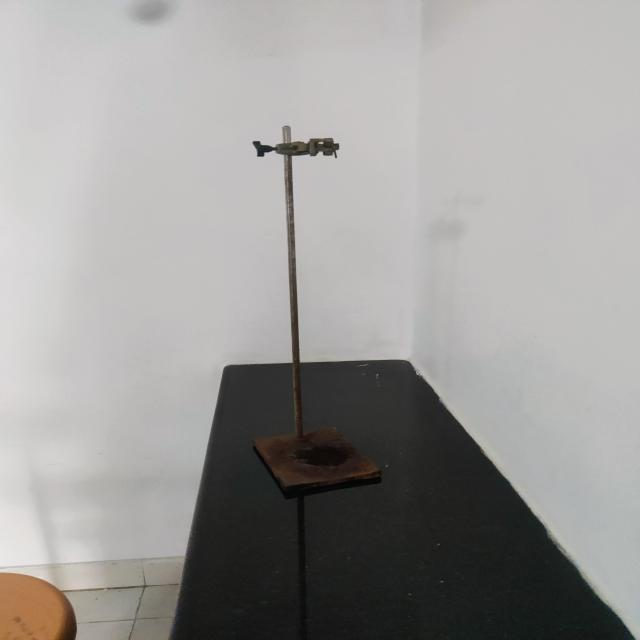Burette_Stands: (214, 98, 416, 518)
